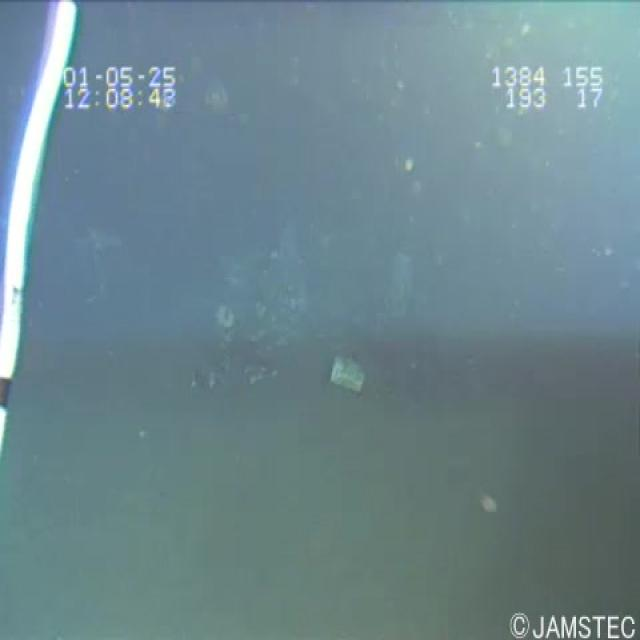plastic: (321, 346, 375, 402)
